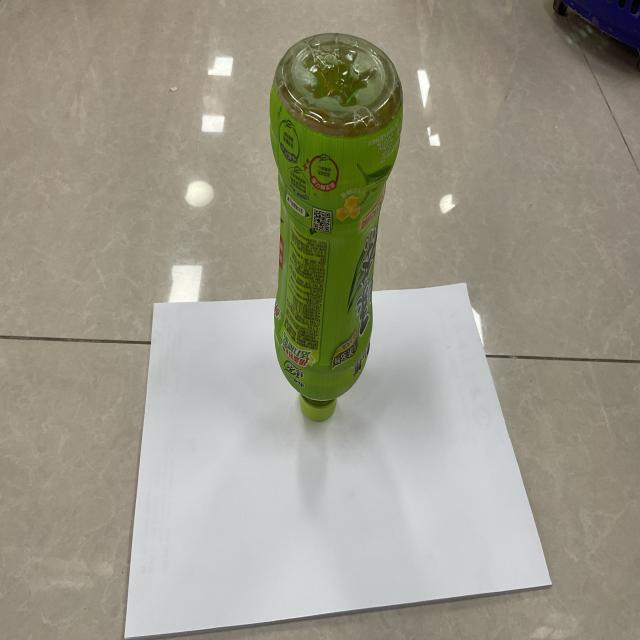chai: (270, 34, 401, 421)
